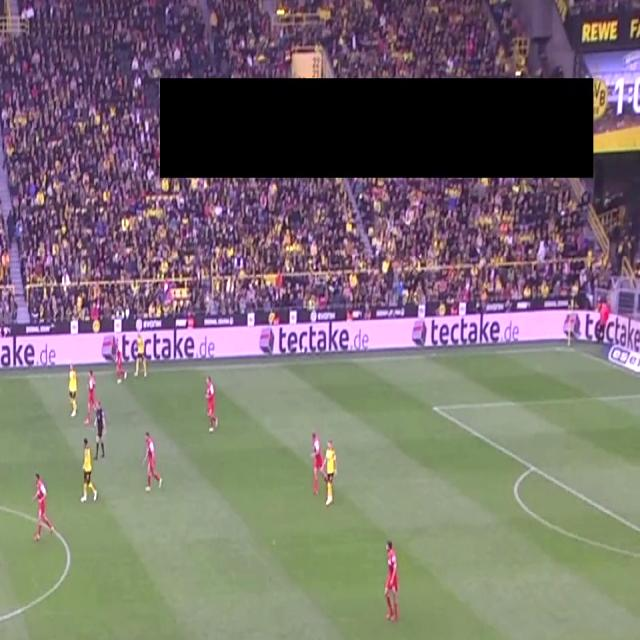referee: (92, 397, 108, 467)
soccer-player: (384, 535, 408, 632), (34, 468, 59, 552), (320, 427, 343, 511), (306, 422, 327, 509), (141, 421, 162, 498), (77, 435, 97, 511), (80, 365, 101, 432), (66, 356, 83, 425), (204, 369, 220, 439), (131, 327, 148, 383), (113, 329, 129, 388)
